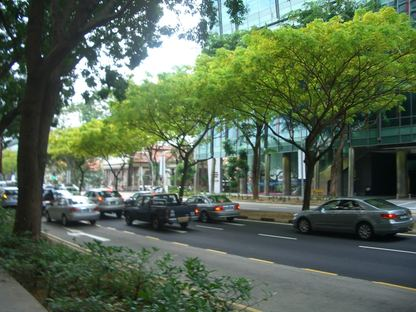car: (293, 197, 415, 241)
truck: (120, 194, 188, 231)
